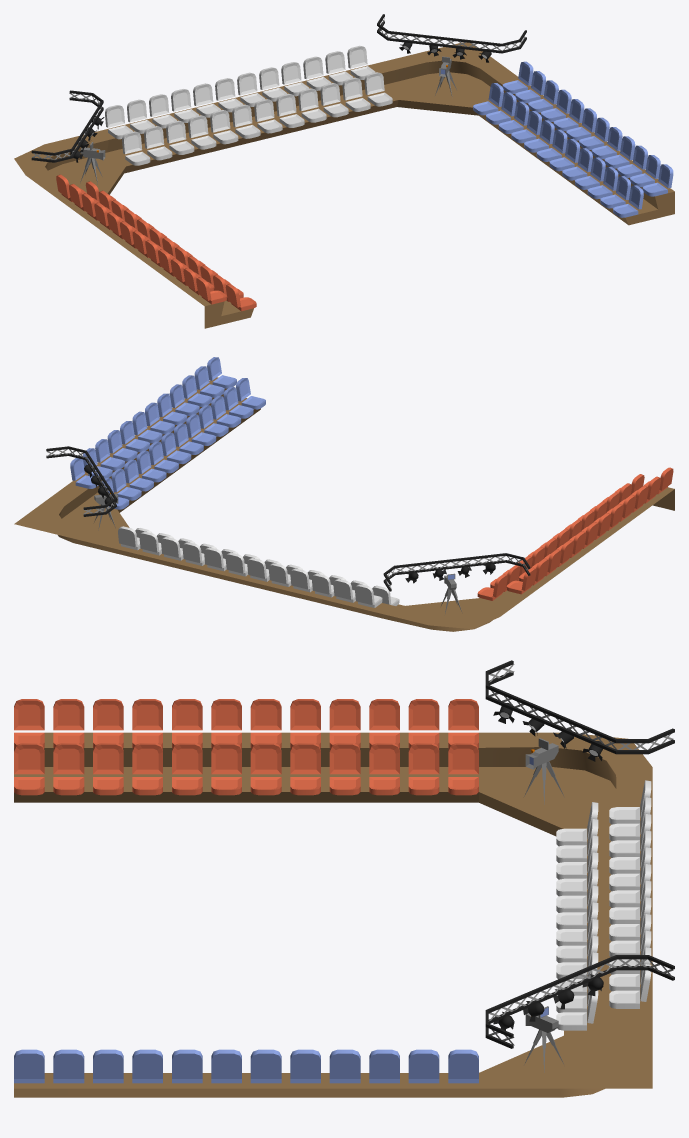
The model's file is tribune.fbx.
The picture shows the model from 3 angles, top to bottom: view 1: azimuth 30°, elevation 25°; view 2: azimuth 150°, elevation 25°; view 3: azimuth 270°, elevation 25°; orthographic projection. The views are drawn at different scales.
Parts seen in each view (by area): view 1: tribune; view 2: tribune; view 3: tribune.
Part boxes in pixels (<box>): tribune: <box>14,14,674,328</box>; tribune: <box>14,357,674,631</box>; tribune: <box>14,660,674,1097</box>.
Size of the model in its own units: 1934 by 236 by 1442.
